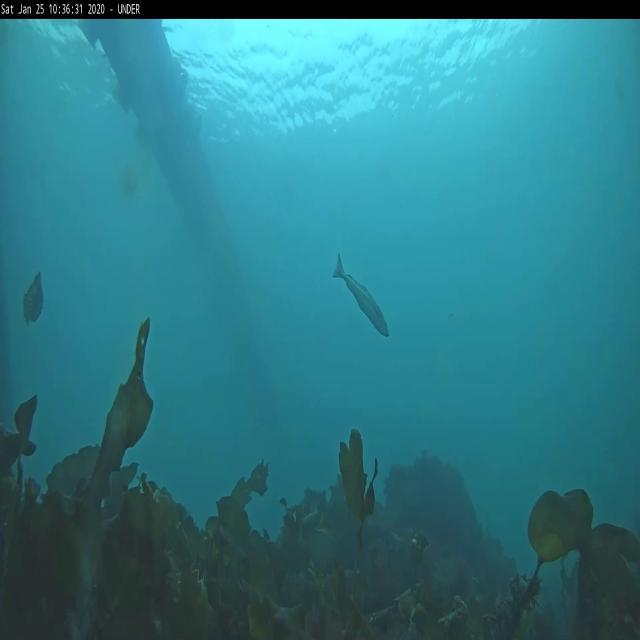fish: (332, 254, 392, 342), (24, 271, 44, 325)
